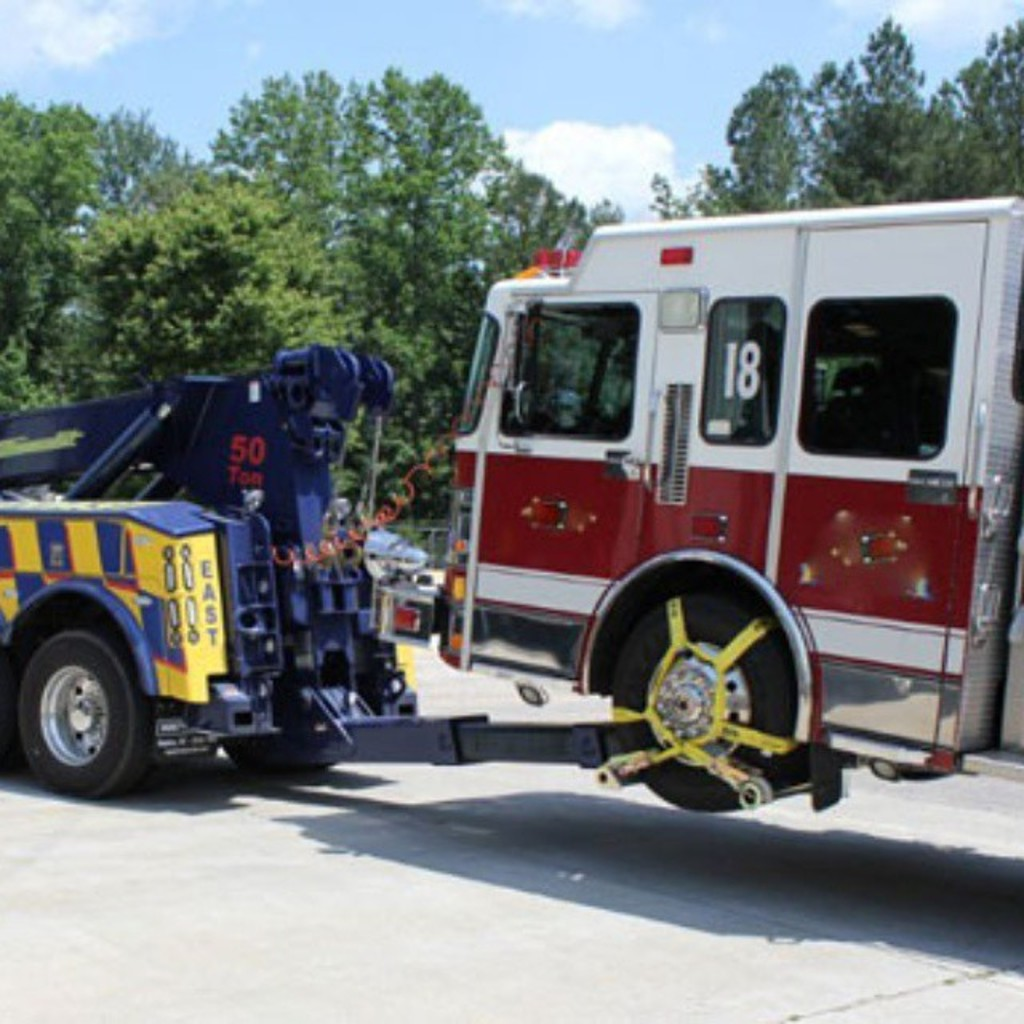Tree: (0, 52, 632, 548), (649, 4, 1022, 222)
